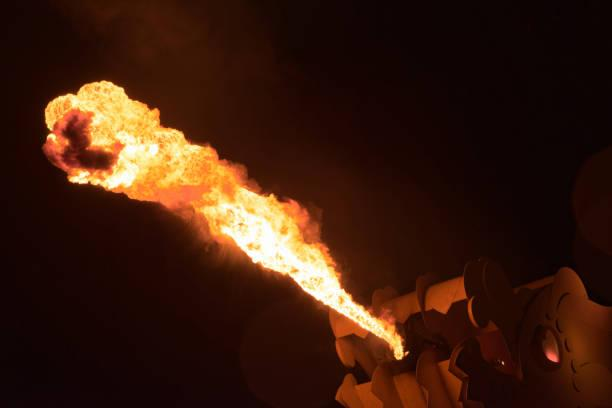Fire: (51, 81, 395, 354)
